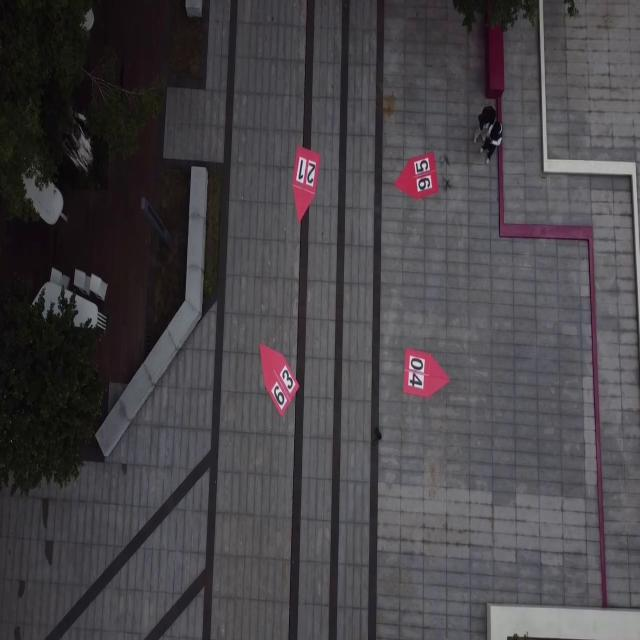-sign-: (260, 343, 299, 418), (403, 348, 451, 399), (291, 145, 321, 223), (394, 150, 439, 200)
